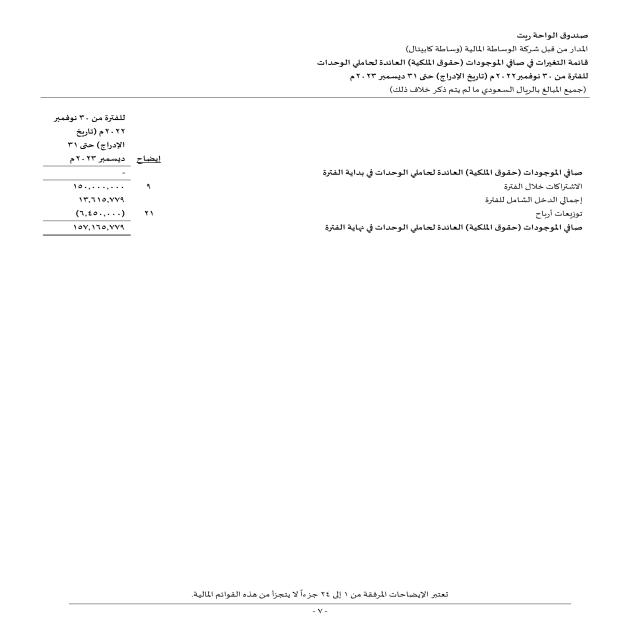other: (258, 8, 621, 289), (14, 92, 204, 278)
